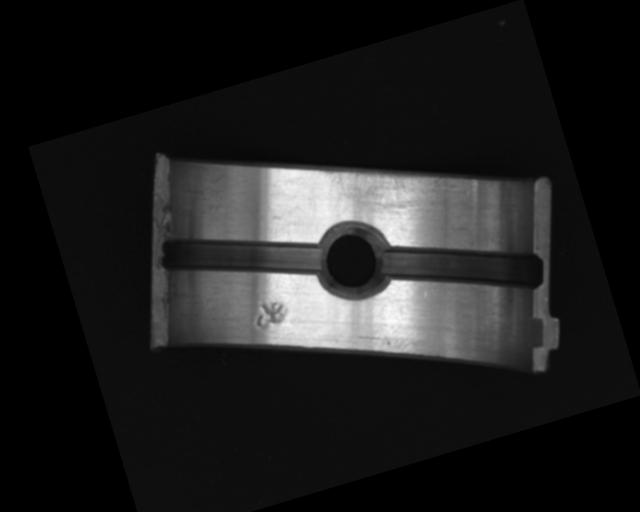bruise: (246, 293, 292, 333)
gap: (373, 206, 549, 330), (156, 201, 324, 314)
hole: (305, 213, 399, 307)
scratch: (310, 130, 461, 229)
